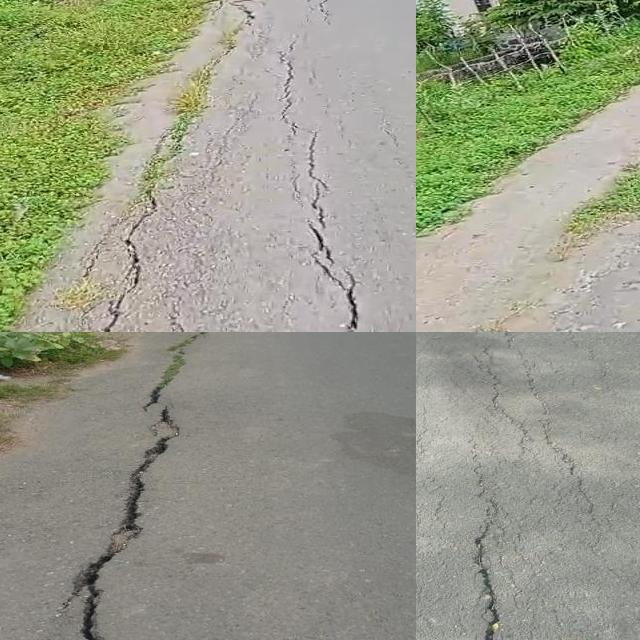Memanjang: (60, 332, 224, 640), (287, 123, 391, 332), (458, 490, 517, 640)
